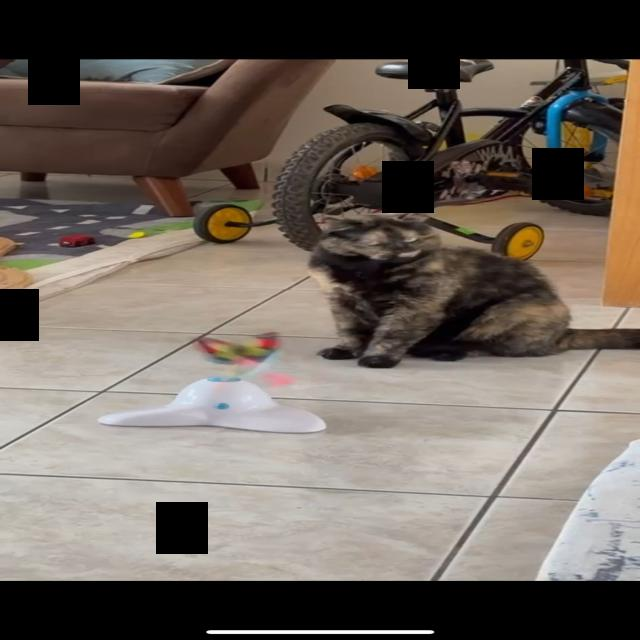authorized: (305, 205, 638, 369)
